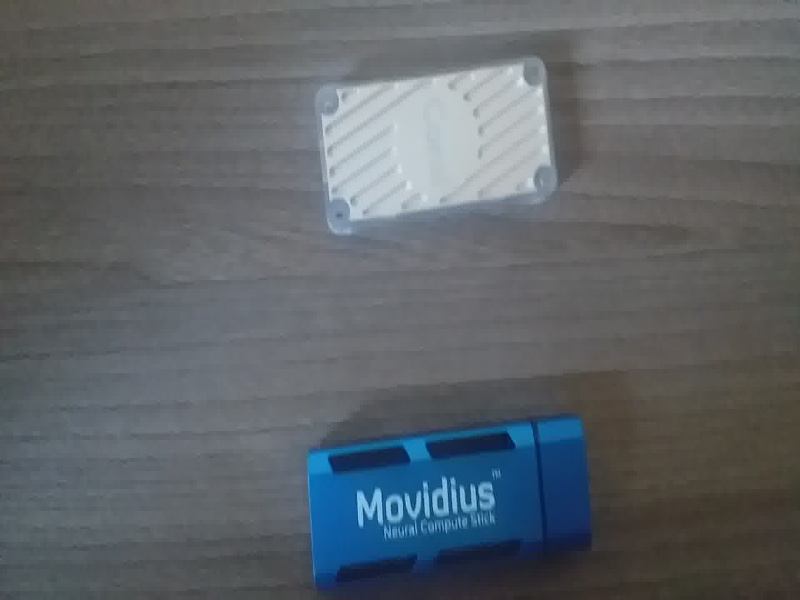coral: (309, 52, 566, 243)
movidius: (302, 424, 606, 586)
